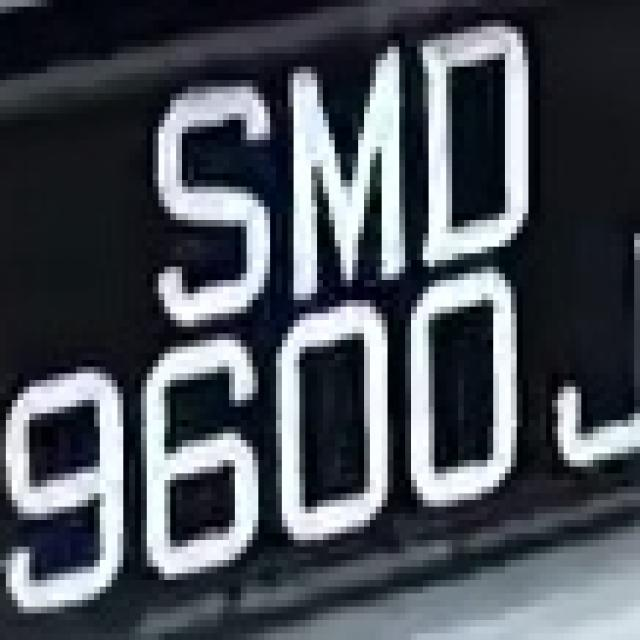0: (382, 260, 534, 553), (264, 287, 394, 553)
6: (117, 333, 276, 600)
9: (18, 366, 129, 626)
D: (411, 20, 546, 293)
J: (546, 246, 640, 466)
M: (258, 74, 411, 294)
S: (123, 73, 276, 327)
